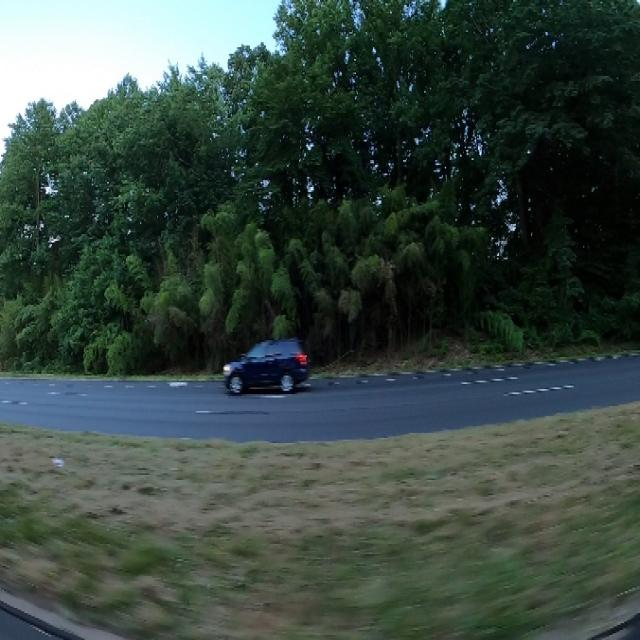car: (216, 323, 319, 411)
